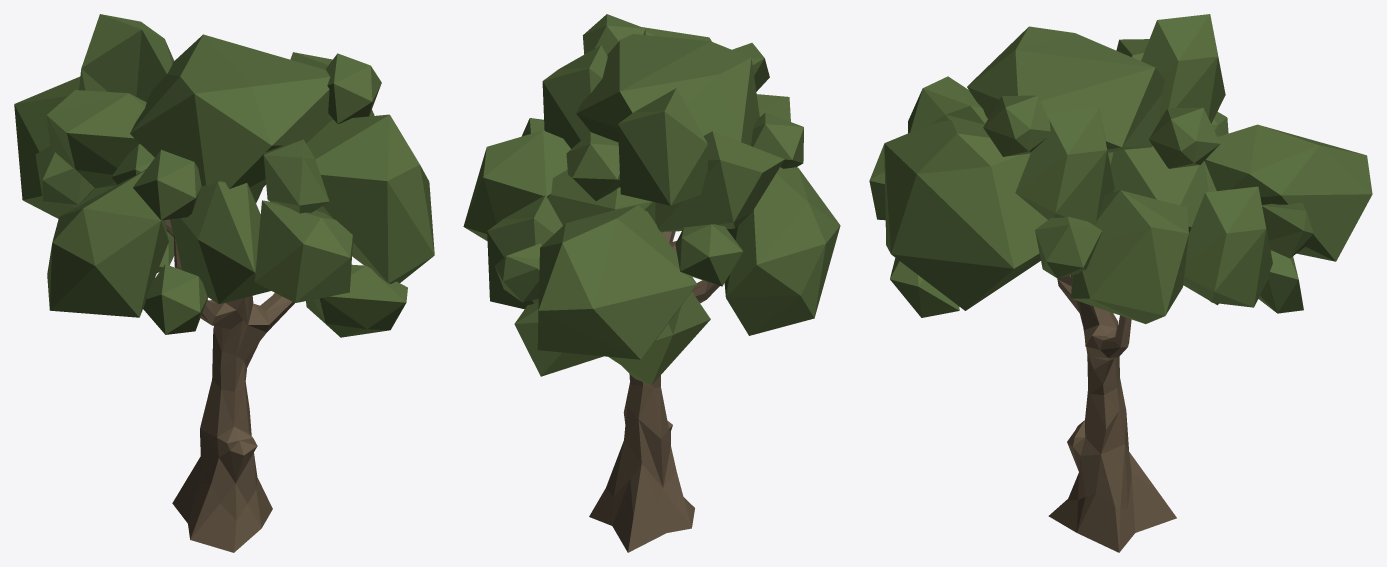
File: trees.fbx
3 renders of one model, left to right at view 1: azimuth 30°, elevation 25°; view 2: azimuth 150°, elevation 25°; view 3: azimuth 270°, elevation 25°, orthographic. The views are drawn at different scales.
Visible parts, largest first — view 1: tree_branch_3_12:pPlatonic9; view 2: tree_branch_3_12:pPlatonic9; view 3: tree_branch_3_12:pPlatonic9.
Boxes of the visible parts, x1,y1,x2,y2 form: tree_branch_3_12:pPlatonic9: (14, 14, 434, 552); tree_branch_3_12:pPlatonic9: (463, 14, 840, 552); tree_branch_3_12:pPlatonic9: (869, 14, 1372, 552).
Size of the model in its own units: 16.59 by 22.74 by 21.61.
